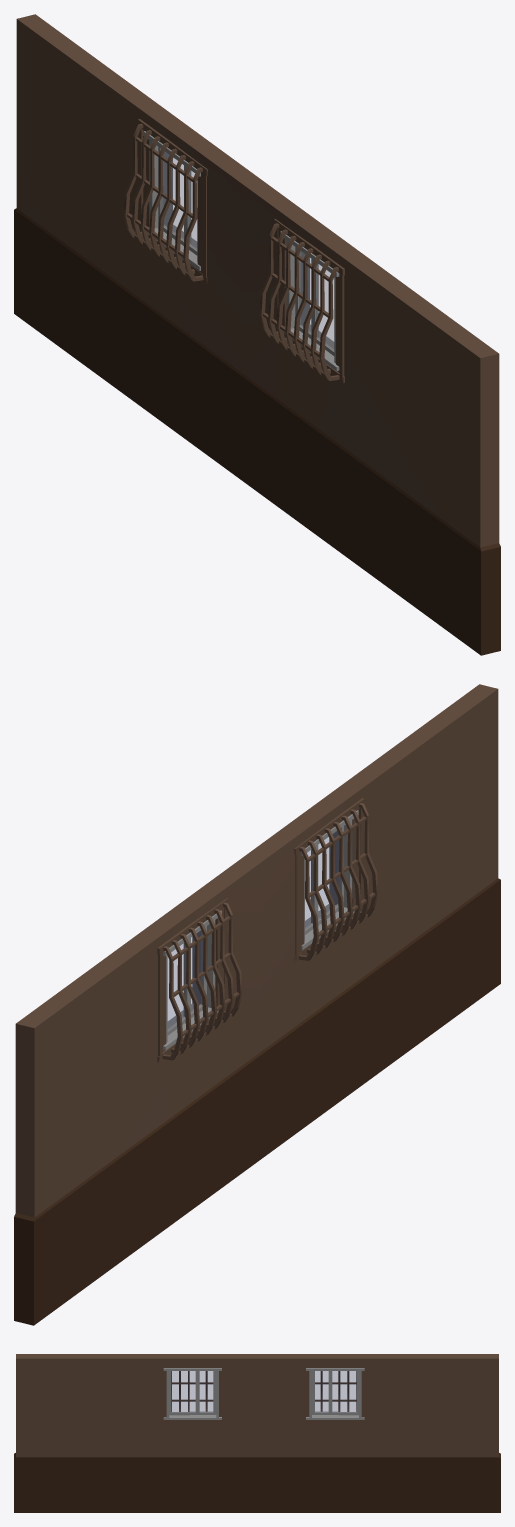
Rendered from outer_wall_1st_floor_type1.FBX.
3 views of the same model, one above another, from view 1: azimuth 30°, elevation 25°; view 2: azimuth 150°, elevation 25°; view 3: azimuth 270°, elevation 25° (orthographic). The views are drawn at different scales.
Visible parts, largest first — view 1: outer_wall_1st_floor_type1_002, wind_009; view 2: outer_wall_1st_floor_type1_002, wind_009; view 3: outer_wall_1st_floor_type1_002, wind_009.
Boxes of the visible parts, left/top/right/bottom form: outer_wall_1st_floor_type1_002: left=14, top=14, right=500, bottom=655; wind_009: left=163, top=152, right=333, bottom=348; outer_wall_1st_floor_type1_002: left=14, top=684, right=500, bottom=1325; wind_009: left=168, top=831, right=338, bottom=1028; outer_wall_1st_floor_type1_002: left=14, top=1354, right=500, bottom=1512; wind_009: left=171, top=1371, right=356, bottom=1412.
Size of the model in its own units: 164 by 1113 by 3185.
